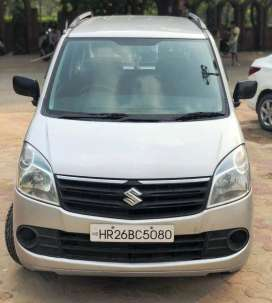nameplate: (90, 225, 175, 243)
